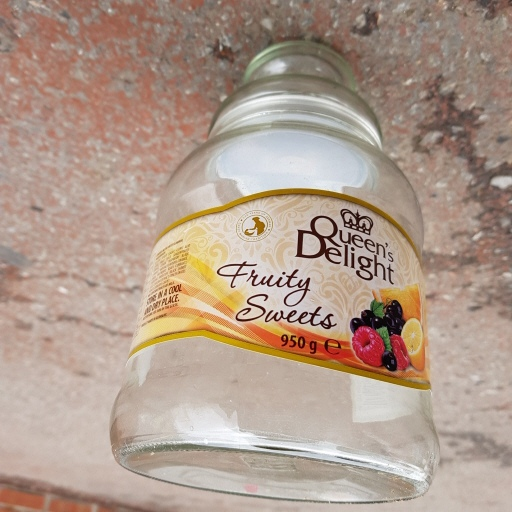Glass_5: (104, 33, 441, 503)
